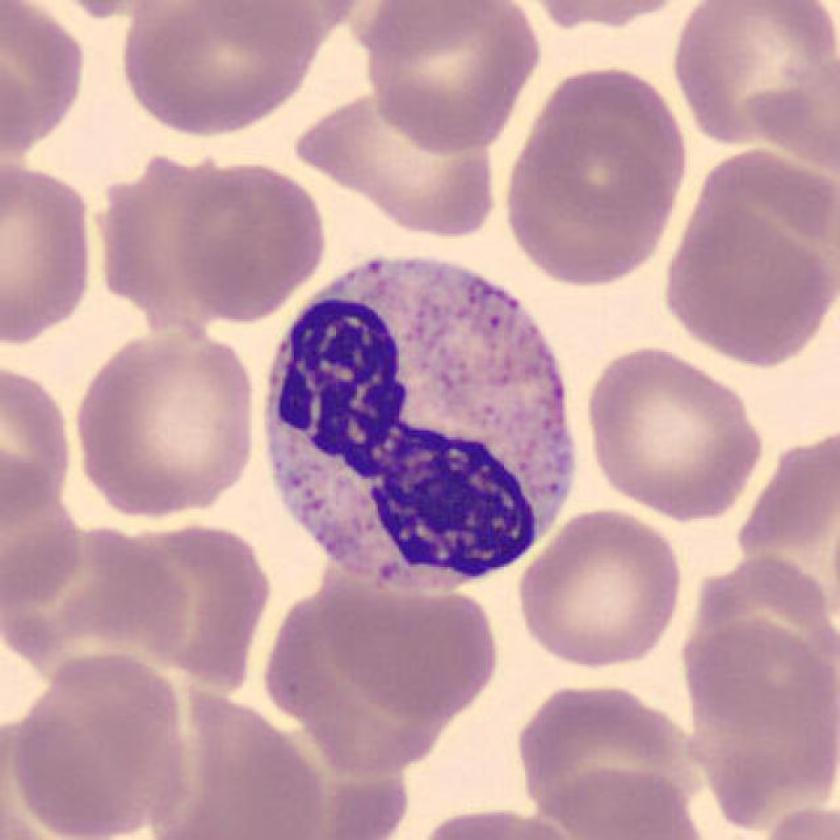neutrophil: (268, 259, 574, 597)
